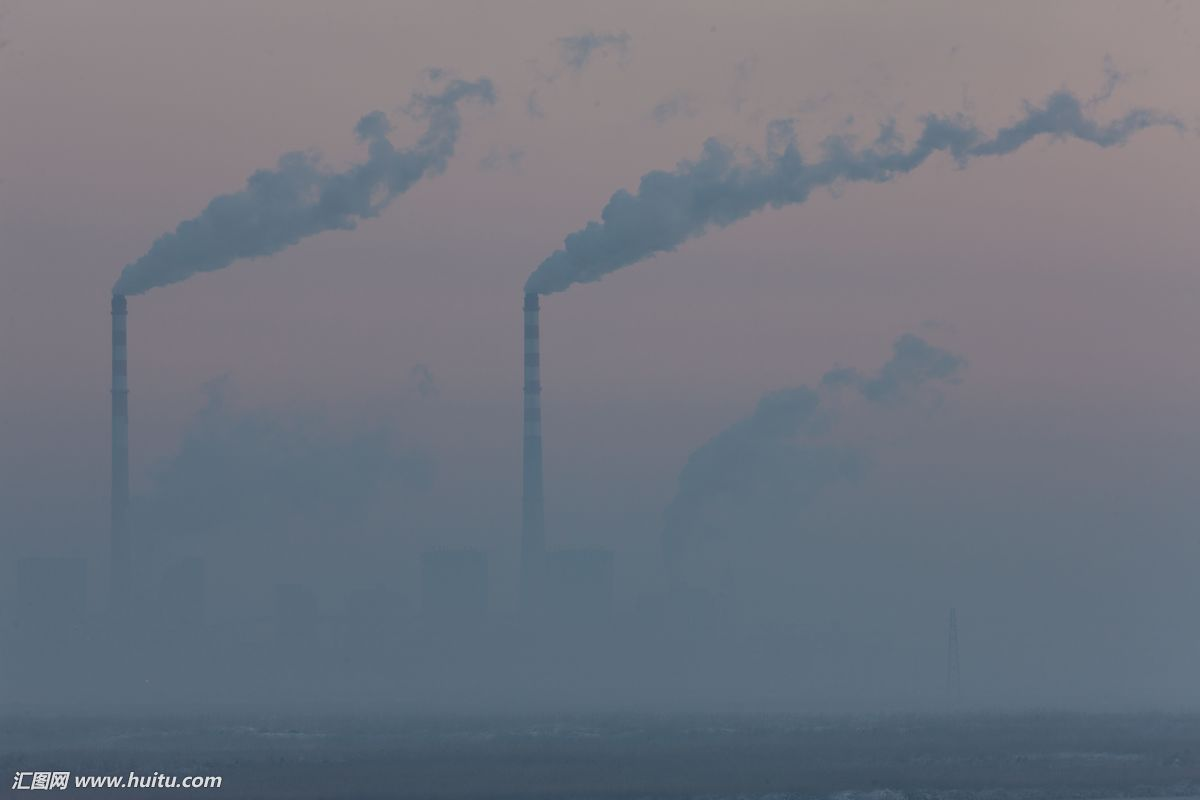dust: (505, 174, 730, 311), (96, 189, 284, 309)
